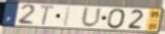2: (18, 3, 37, 26), (127, 9, 146, 31)
I: (61, 6, 73, 28)
O: (106, 8, 127, 30)
T: (39, 4, 56, 27)
U: (80, 6, 103, 29)
